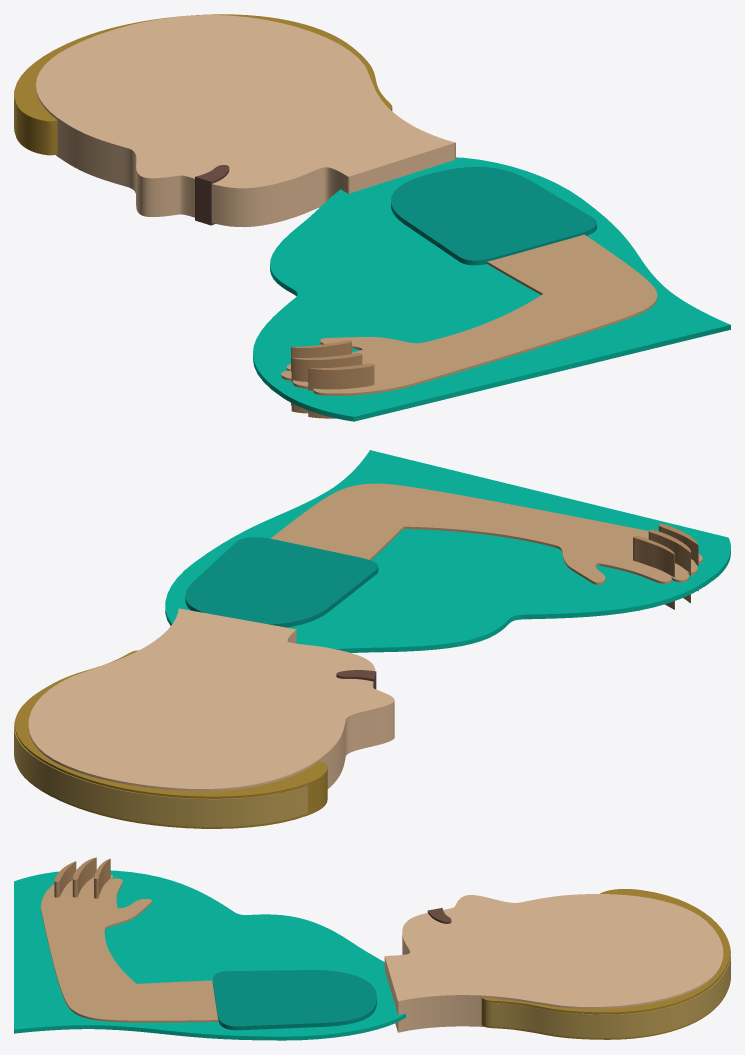
Rendered from emoji_u1fac3_1f3fc.glb.
3 views of the same model, one above another, from view 1: azimuth 30°, elevation 25°; view 2: azimuth 150°, elevation 25°; view 3: azimuth 270°, elevation 25° (orthographic). The views are drawn at different scales.
Parts seen in each view (by area): view 1: emoji_u1fac3_1f3fc; view 2: emoji_u1fac3_1f3fc; view 3: emoji_u1fac3_1f3fc.
Boxes of the visible parts, x1,y1,x2,y2 form: emoji_u1fac3_1f3fc: (14,14,730,421); emoji_u1fac3_1f3fc: (14,450,730,828); emoji_u1fac3_1f3fc: (14,857,730,1040).
Size of the model in its own units: 0.0182 by 0.0024 by 0.0332.
